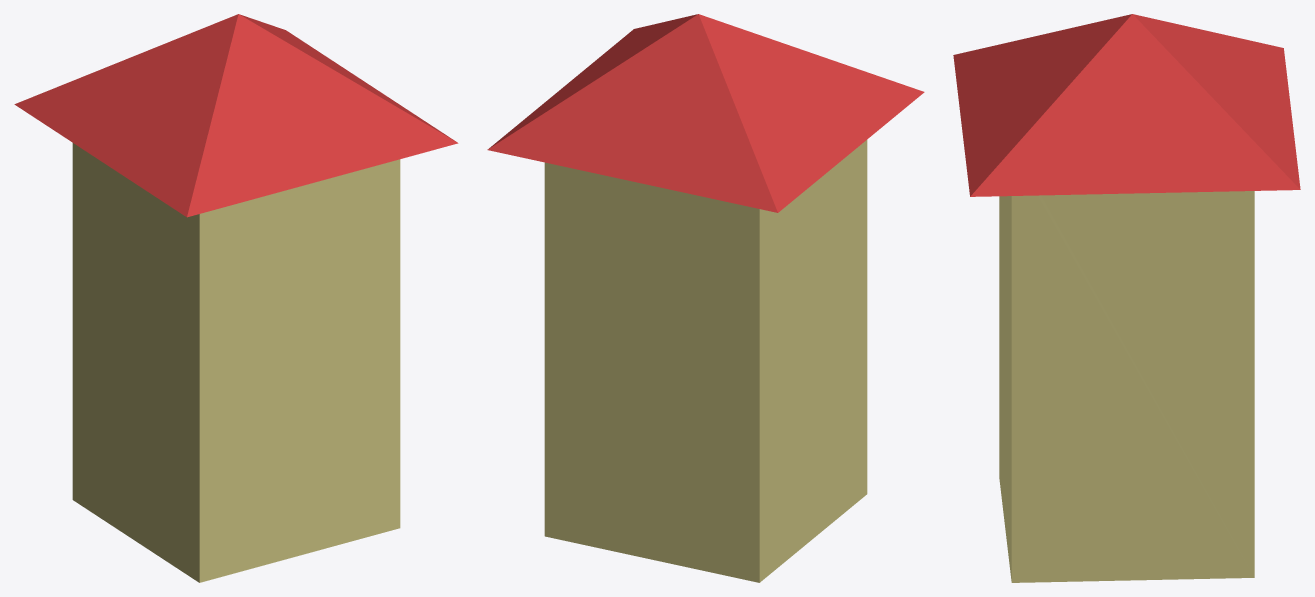
3 renders of one model, left to right at view 1: azimuth 30°, elevation 25°; view 2: azimuth 150°, elevation 25°; view 3: azimuth 270°, elevation 25°, orthographic. The views are drawn at different scales.
Bounding box in the file's own units: 6.03 × 5.94 × 9.75.
